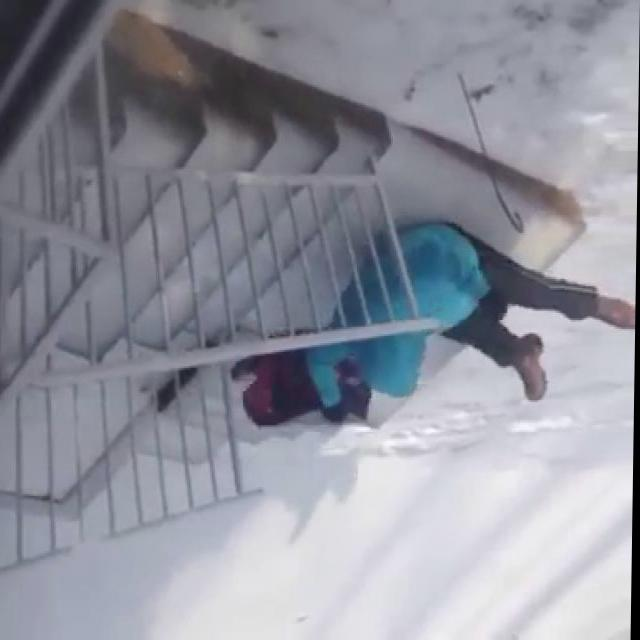fall: (309, 222, 633, 407)
